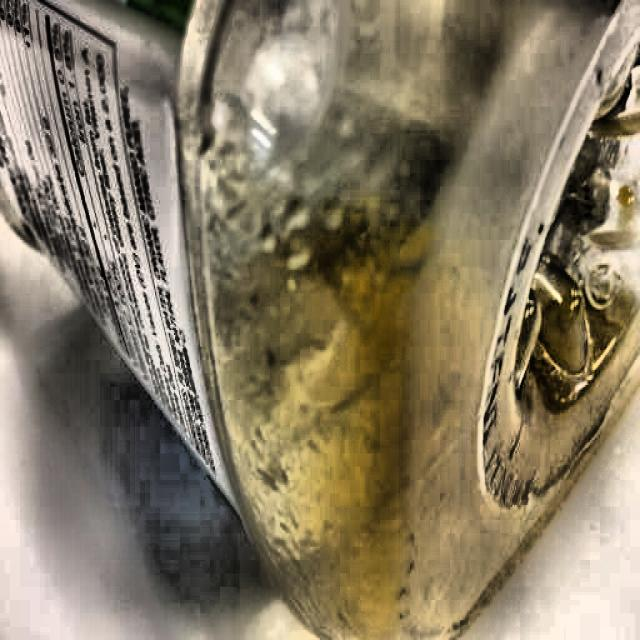plastic: (2, 1, 640, 612)
